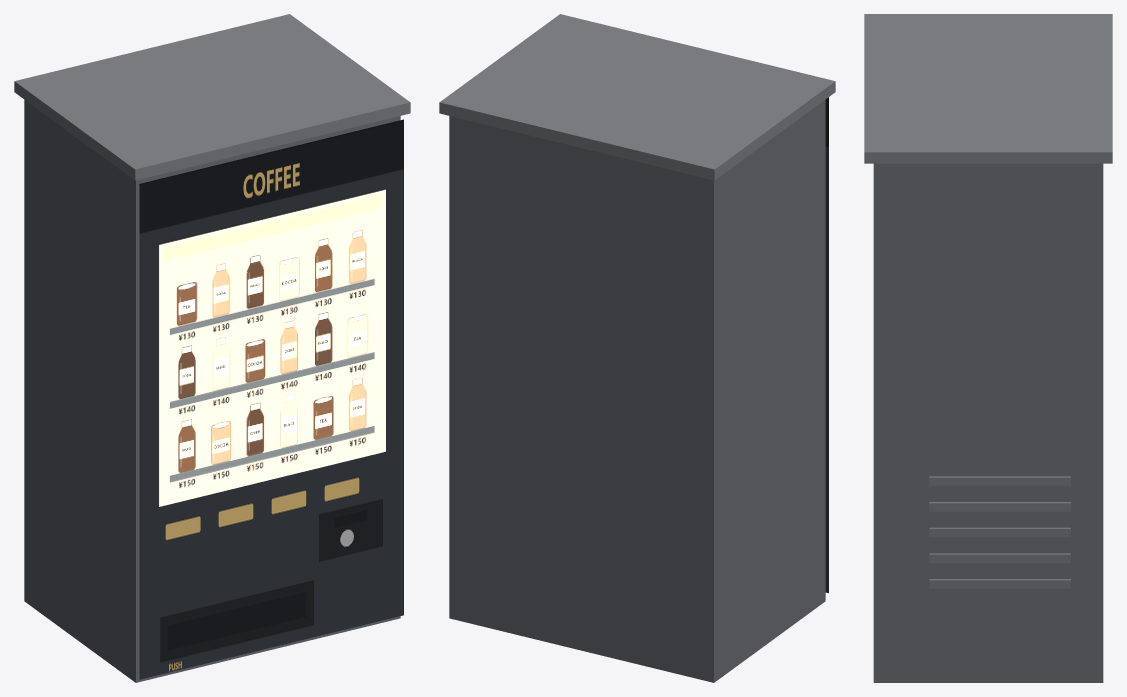
The model's file is prop-vending-coffee.glb.
The picture shows the model from 3 angles, left to right: view 1: azimuth 30°, elevation 25°; view 2: azimuth 150°, elevation 25°; view 3: azimuth 270°, elevation 25°; orthographic projection. The views are drawn at different scales.
Visible parts, largest first — view 1: vend-face, vend-body, vend-window, vend-cap; view 2: vend-body, vend-cap, vend-face; view 3: vend-body, vend-cap, vend-grille.
Boxes of the visible parts, box(x1,y1,x2,y2) form: vend-face: box(139, 119, 403, 679); vend-body: box(24, 100, 400, 682); vend-window: box(158, 189, 385, 506); vend-cap: box(14, 14, 410, 180); vend-body: box(449, 100, 825, 682); vend-cap: box(439, 14, 835, 180); vend-face: box(825, 97, 828, 593); vend-body: box(873, 163, 1103, 682); vend-cap: box(864, 14, 1112, 163); vend-grille: box(929, 476, 1070, 588).
Size of the model in its own units: 1.04 by 1.87 by 0.79.
5 materials, 2 textured.
